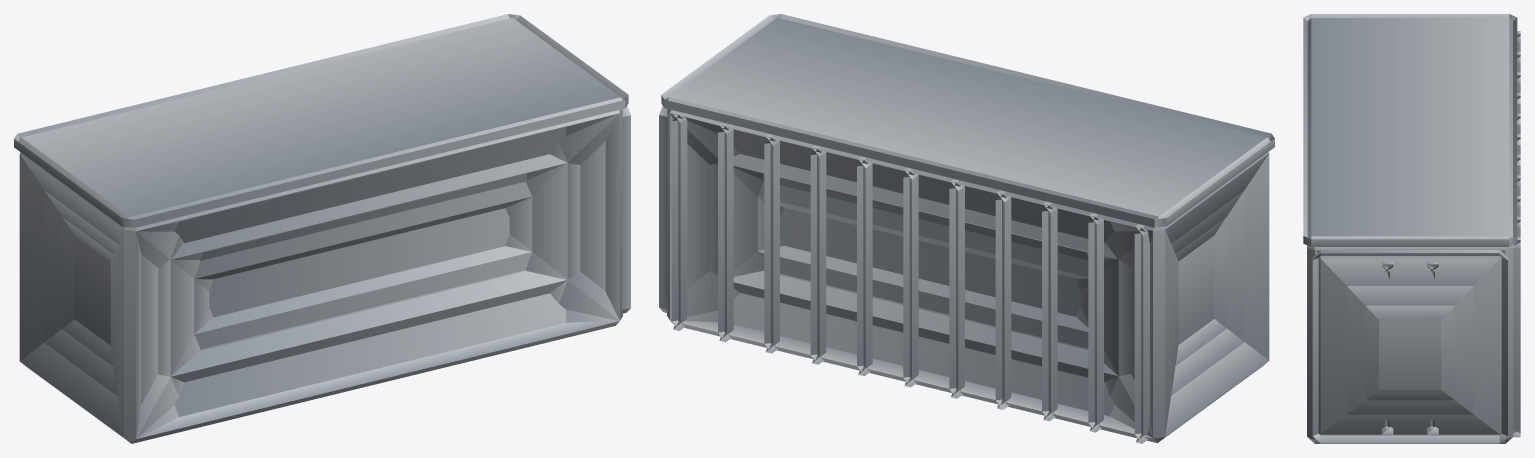
File: dt_shipping_container.fbx
The picture shows the model from 3 angles, left to right: view 1: azimuth 30°, elevation 25°; view 2: azimuth 150°, elevation 25°; view 3: azimuth 270°, elevation 25°; orthographic projection. The views are drawn at different scales.
Visible parts, largest first — view 1: dt_shipping_container; view 2: dt_shipping_container; view 3: dt_shipping_container.
Boxes of the visible parts, x1=… form: dt_shipping_container: x1=14, y1=14, x2=630, y2=443; dt_shipping_container: x1=659, y1=14, x2=1274, y2=443; dt_shipping_container: x1=1303, y1=14, x2=1520, y2=443.
Bounding box in the file's own units: 2000 × 838 × 787.
